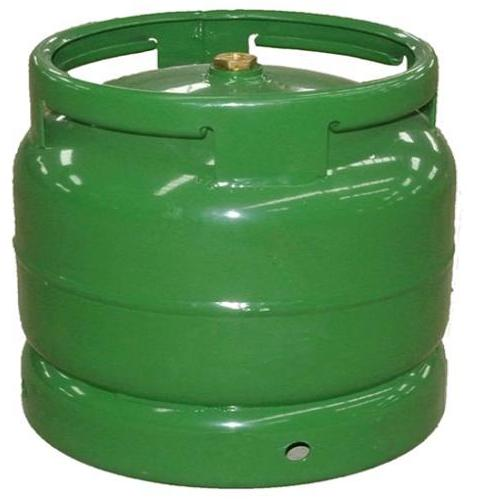cylinder: (1, 1, 487, 500)
